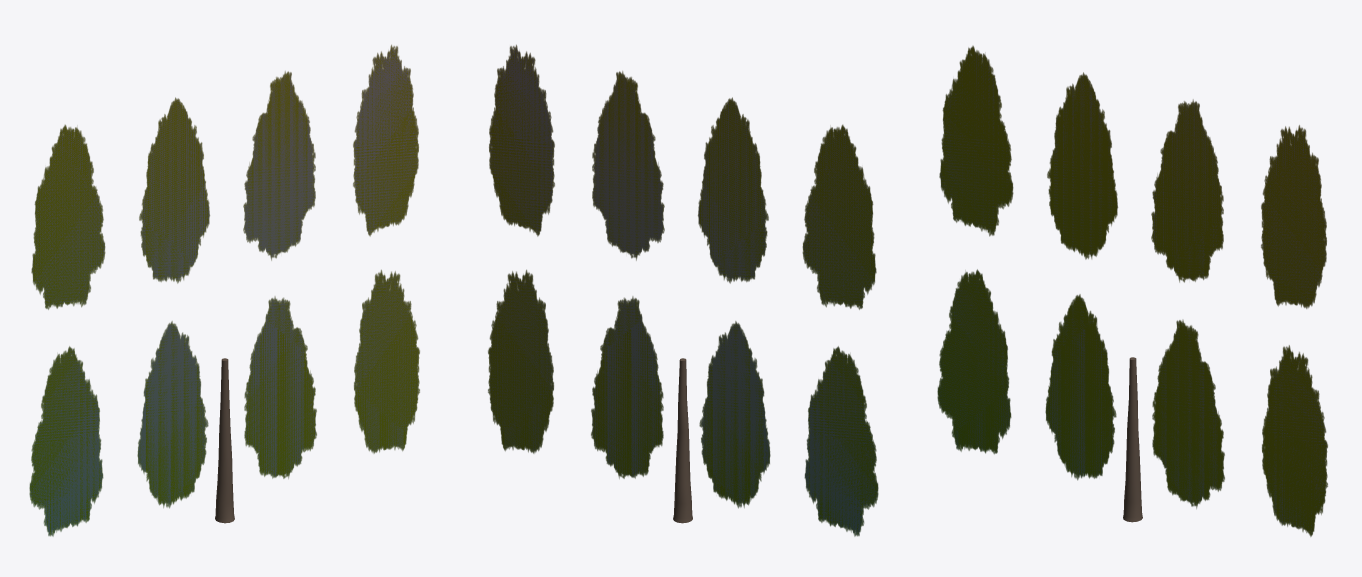
Rendered from tree_medium_upright_asymmetric_canopy_lod2_impostor.glb.
3 views of the same model, side by side, from view 1: azimuth 30°, elevation 25°; view 2: azimuth 150°, elevation 25°; view 3: azimuth 330°, elevation 25° (orthographic).
Parts seen in each view (by area): view 1: TreeHLOD2_Impostor, Camphor_Trunk_Stylized; view 2: TreeHLOD2_Impostor, Camphor_Trunk_Stylized; view 3: TreeHLOD2_Impostor, Camphor_Trunk_Stylized.
Part boxes in pixels (x1,y1,x2,y2): TreeHLOD2_Impostor: [29, 44, 419, 536]; Camphor_Trunk_Stylized: [215, 358, 234, 523]; TreeHLOD2_Impostor: [488, 44, 878, 536]; Camphor_Trunk_Stylized: [673, 358, 692, 523]; TreeHLOD2_Impostor: [937, 45, 1327, 536]; Camphor_Trunk_Stylized: [1123, 357, 1142, 522].
Bounding box in the file's own units: 17.34 × 17.62 × 0.7379.
Materials: 2 (1 with a texture image).
